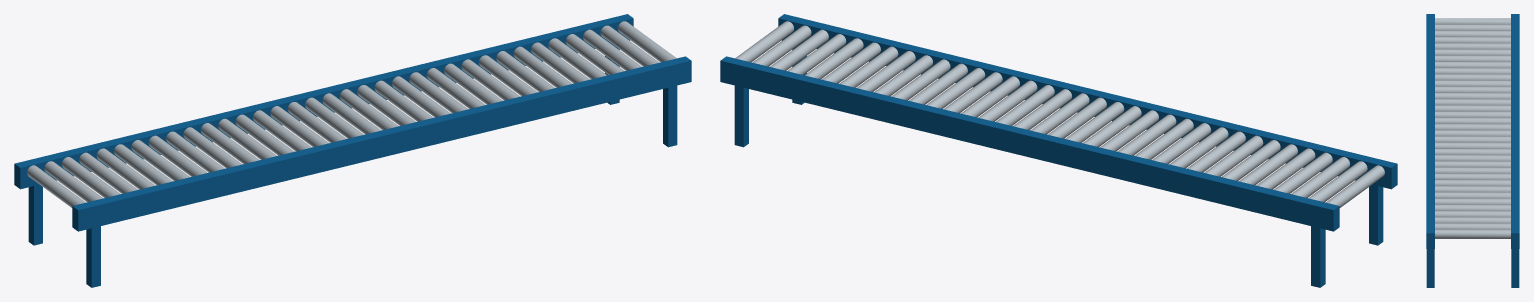
The model's file is long_conveyor.dae.
3 renders of one model, left to right at view 1: azimuth 30°, elevation 25°; view 2: azimuth 150°, elevation 25°; view 3: azimuth 270°, elevation 25°, orthographic. The views are drawn at different scales.
Visible parts, largest first — view 1: long_conveyor; view 2: long_conveyor; view 3: long_conveyor.
Part boxes in pixels (x1,y1,x2,y2): long_conveyor: (14, 14, 691, 287); long_conveyor: (720, 14, 1397, 287); long_conveyor: (1426, 14, 1519, 287).
Size of the model in its own units: 6 by 1.08 by 0.76.
